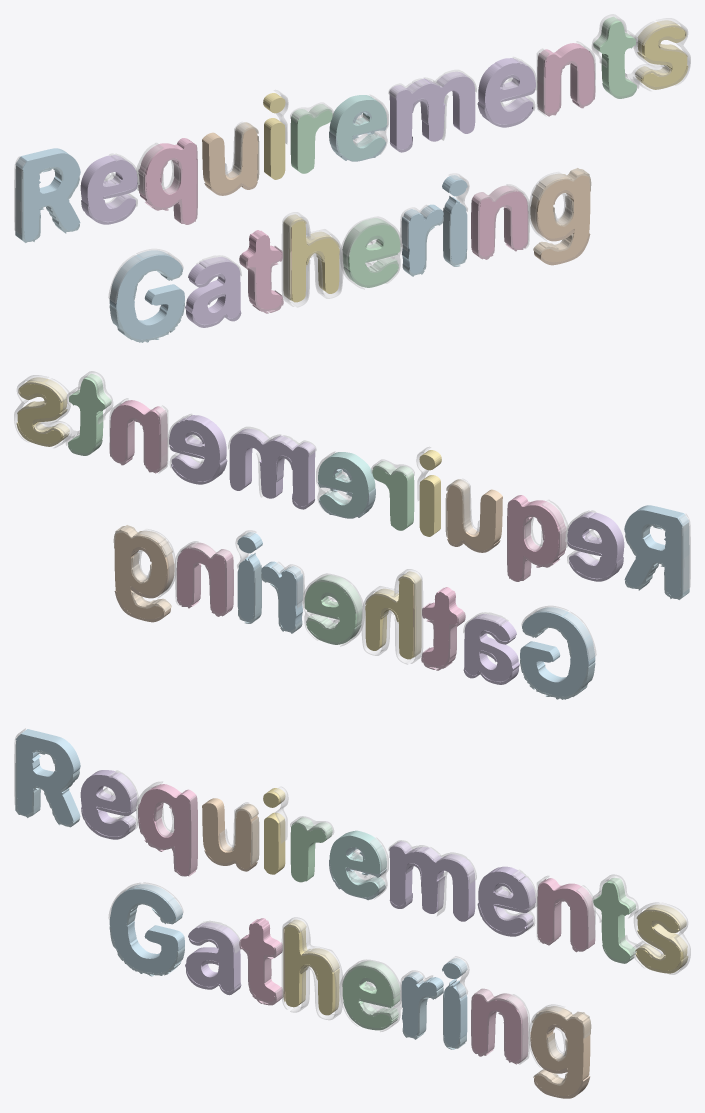
The picture shows the model from 3 angles, top to bottom: view 1: azimuth 30°, elevation 25°; view 2: azimuth 150°, elevation 25°; view 3: azimuth 330°, elevation 25°; orthographic projection.
Parts seen in each view (by area): view 1: Node1, Node6, Node5, Node50, Node10, Node2, Node4, Node3, Node64, Node51, Node53, Node12 (+26 smaller); view 2: Node1, Node6, Node5, Node50, Node10, Node2, Node4, Node3, Node64, Node51, Node53, Node12 (+26 smaller); view 3: Node1, Node6, Node5, Node50, Node10, Node4, Node2, Node3, Node53, Node64, Node51, Node12 (+21 smaller).
Part boxes in pixels (x1,y1,x2,y2): Node1: (389,71,475,149); Node6: (109,250,184,339); Node5: (15,148,80,240); Node50: (531,170,590,262); Node10: (139,138,196,223); Node2: (185,257,240,324); Node4: (80,155,137,221); Node3: (478,58,535,124); Node64: (329,95,386,160); Node51: (202,124,257,193); Node53: (291,221,339,302); Node12: (540,43,593,113); Node1: (229,428,315,506); Node6: (520,607,595,696); Node5: (624,505,689,597); Node50: (114,527,173,619); Node10: (508,495,565,580); Node2: (464,614,519,681); Node4: (567,512,624,578); Node3: (169,415,226,481); Node64: (318,452,375,517); Node51: (447,481,502,550); Node53: (365,578,413,659); Node12: (111,400,164,470); Node1: (389,841,475,921); Node6: (109,884,184,973); Node5: (15,729,80,824); Node50: (531,1010,590,1095); Node10: (139,784,195,875); Node4: (80,770,137,836); Node2: (185,922,240,991); Node3: (478,866,535,933); Node53: (285,926,339,1015); Node64: (329,830,386,897); Node51: (202,798,257,869); Node12: (538,878,593,949).
Size of what is drawn, in the model's own units: 283 by 95.81 by 5.
